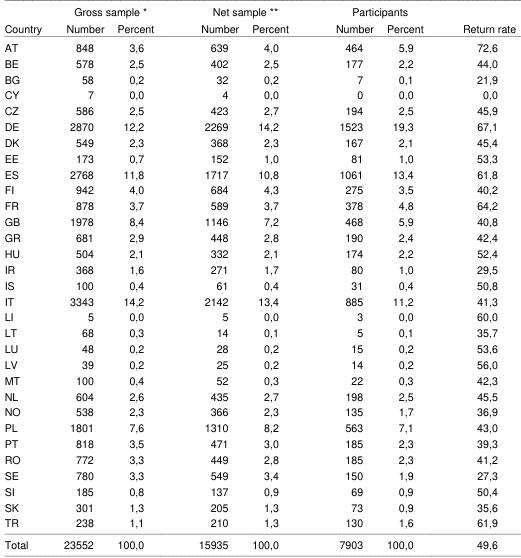table: (3, 3, 515, 551)
table column: (442, 3, 515, 551), (175, 3, 244, 551), (311, 3, 379, 551), (244, 3, 311, 551), (109, 3, 175, 551), (379, 3, 442, 551), (52, 3, 109, 551), (3, 3, 52, 551)
table column header: (3, 3, 515, 37)
table row: (3, 514, 515, 533), (3, 19, 515, 37), (3, 533, 515, 551), (3, 37, 515, 54), (3, 3, 515, 19), (3, 54, 515, 70), (3, 70, 515, 86), (3, 86, 515, 102), (3, 102, 515, 118), (3, 133, 515, 149), (3, 149, 515, 165), (3, 165, 515, 181), (3, 181, 515, 197), (3, 197, 515, 213), (3, 213, 515, 229), (3, 244, 515, 260), (3, 260, 515, 276), (3, 276, 515, 292), (3, 292, 515, 308), (3, 308, 515, 324), (3, 339, 515, 355), (3, 355, 515, 371), (3, 371, 515, 387), (3, 387, 515, 403), (3, 403, 515, 419), (3, 419, 515, 435), (3, 450, 515, 466), (3, 466, 515, 482), (3, 482, 515, 498), (3, 498, 515, 514), (3, 118, 515, 133), (3, 229, 515, 244), (3, 324, 515, 339), (3, 435, 515, 450)
table spanning cell: (442, 3, 515, 37), (175, 3, 311, 19), (311, 3, 442, 19), (52, 3, 175, 19), (3, 3, 52, 37)
